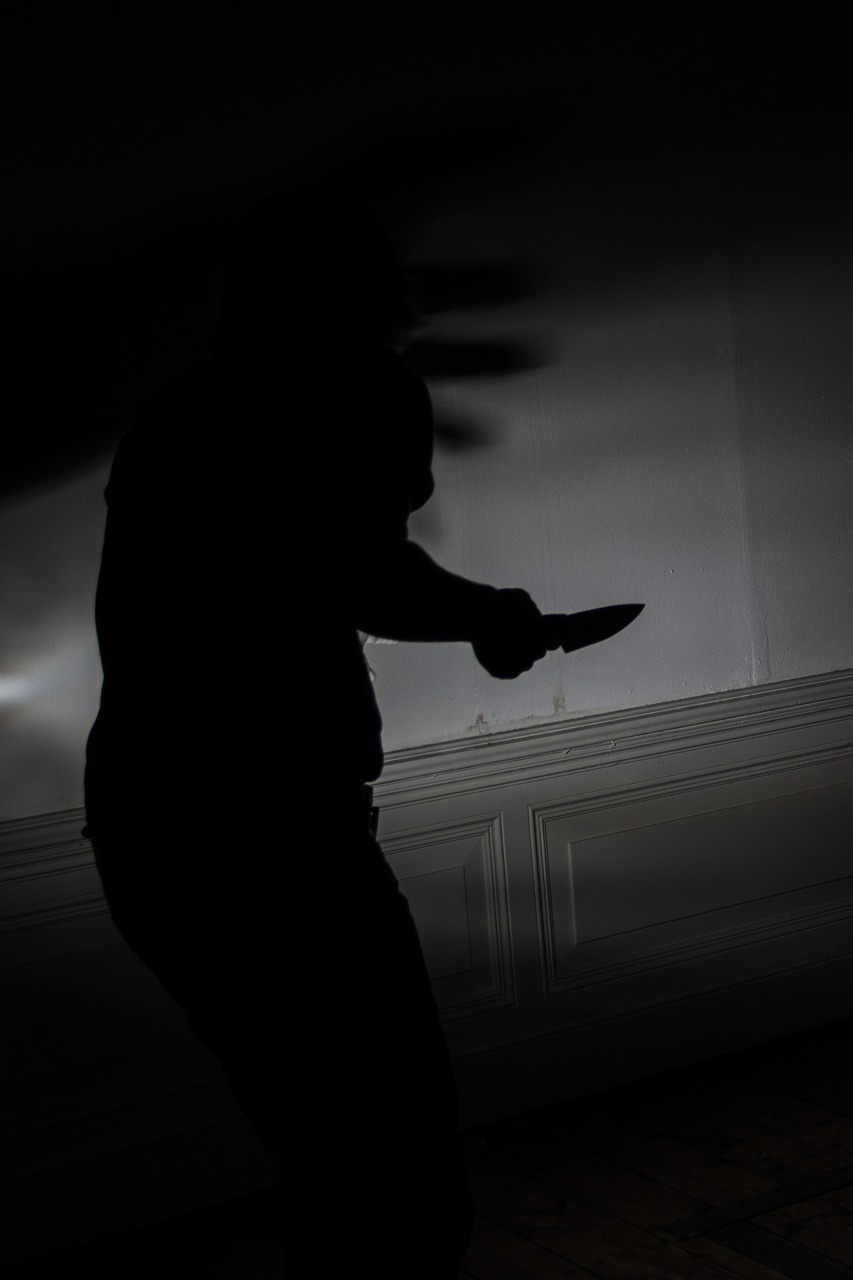knife: (541, 596, 651, 655)
